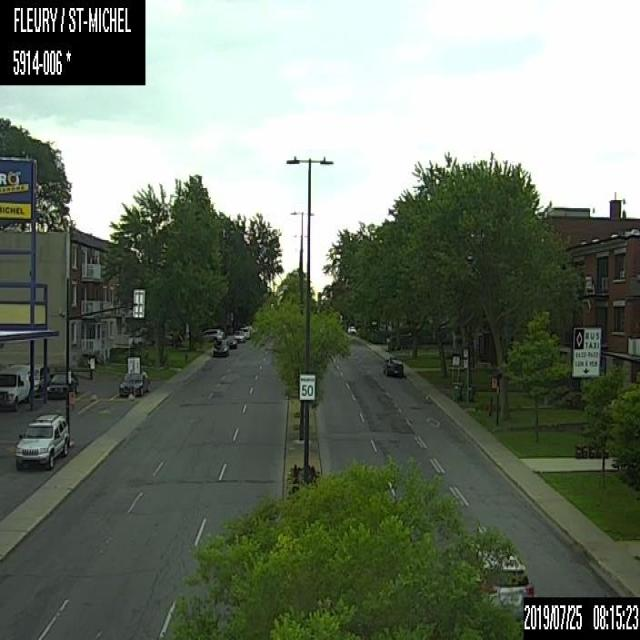vehicle: (474, 546, 534, 618), (12, 409, 70, 471), (0, 362, 35, 410), (42, 371, 78, 399), (118, 368, 151, 396), (31, 364, 50, 396), (382, 355, 403, 377), (200, 326, 223, 341), (212, 340, 228, 356), (225, 333, 238, 350), (232, 328, 246, 343), (347, 324, 356, 334)
